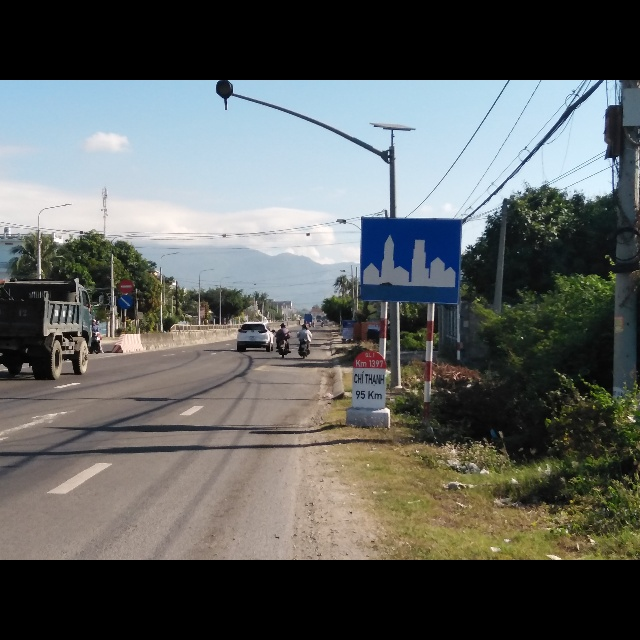Khu đông dân cư: (357, 216, 462, 303)
